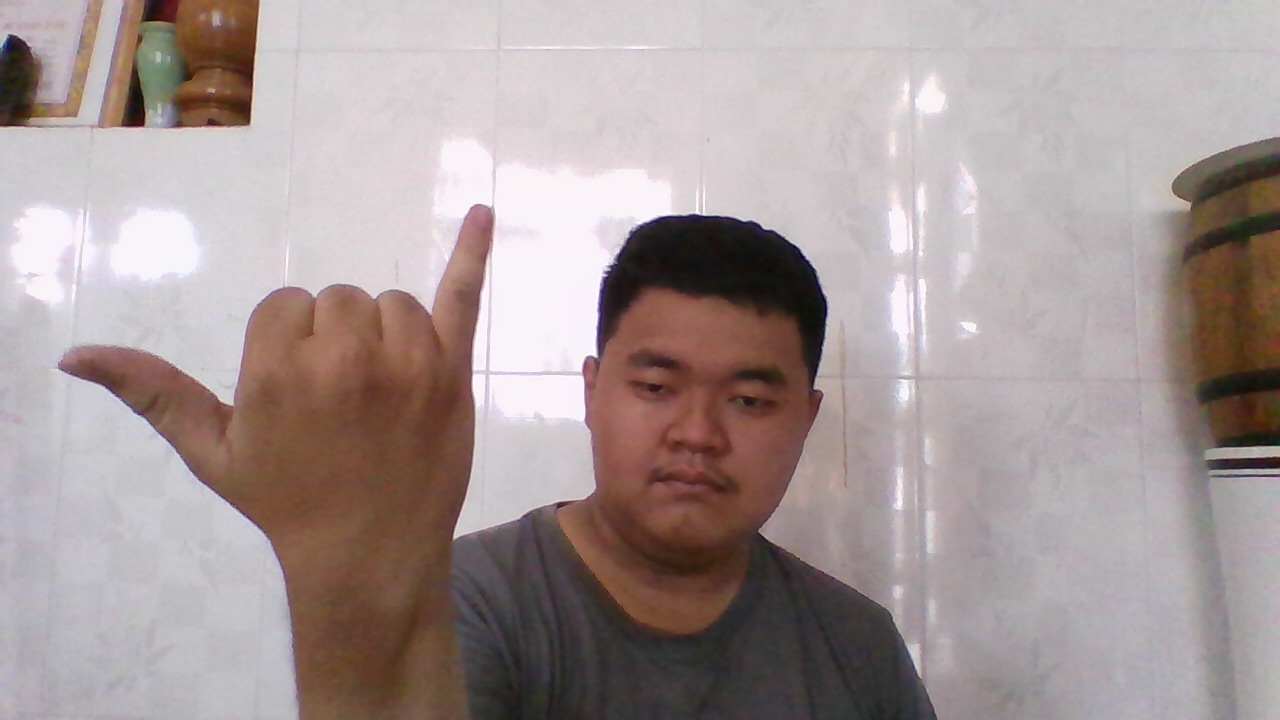Y: (70, 196, 497, 589)
